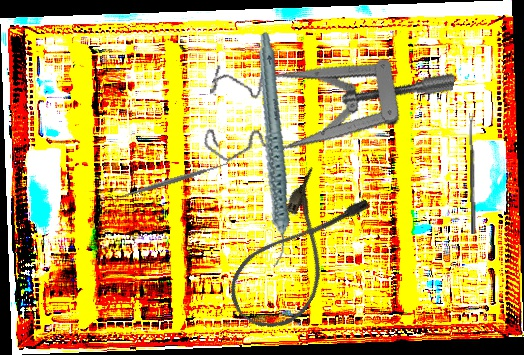Cannula: (216, 162, 376, 345)
Handpiece: (223, 31, 319, 268)
Spatula Surgical: (110, 156, 235, 205)
Speculum: (194, 15, 457, 212)
Surgical Spoon: (468, 112, 477, 235)
